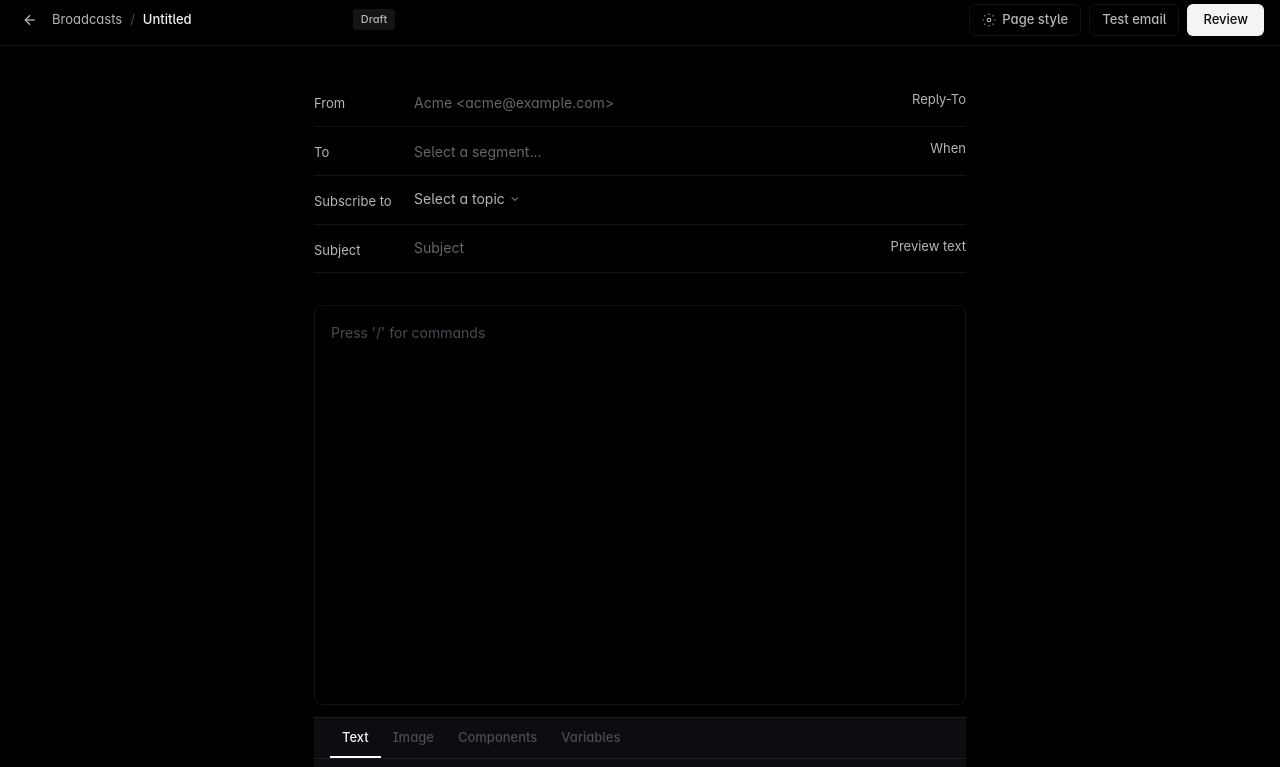
Test: BroadcastEditor — Block Editor › variables tab shows contact properties and system variables
The width and height of the screenshot is (1280, 767).
Note: Click Variables toolbar tab
Click the button "Variables" at (591, 738), box [549,718,632,758]
(page scrolled)
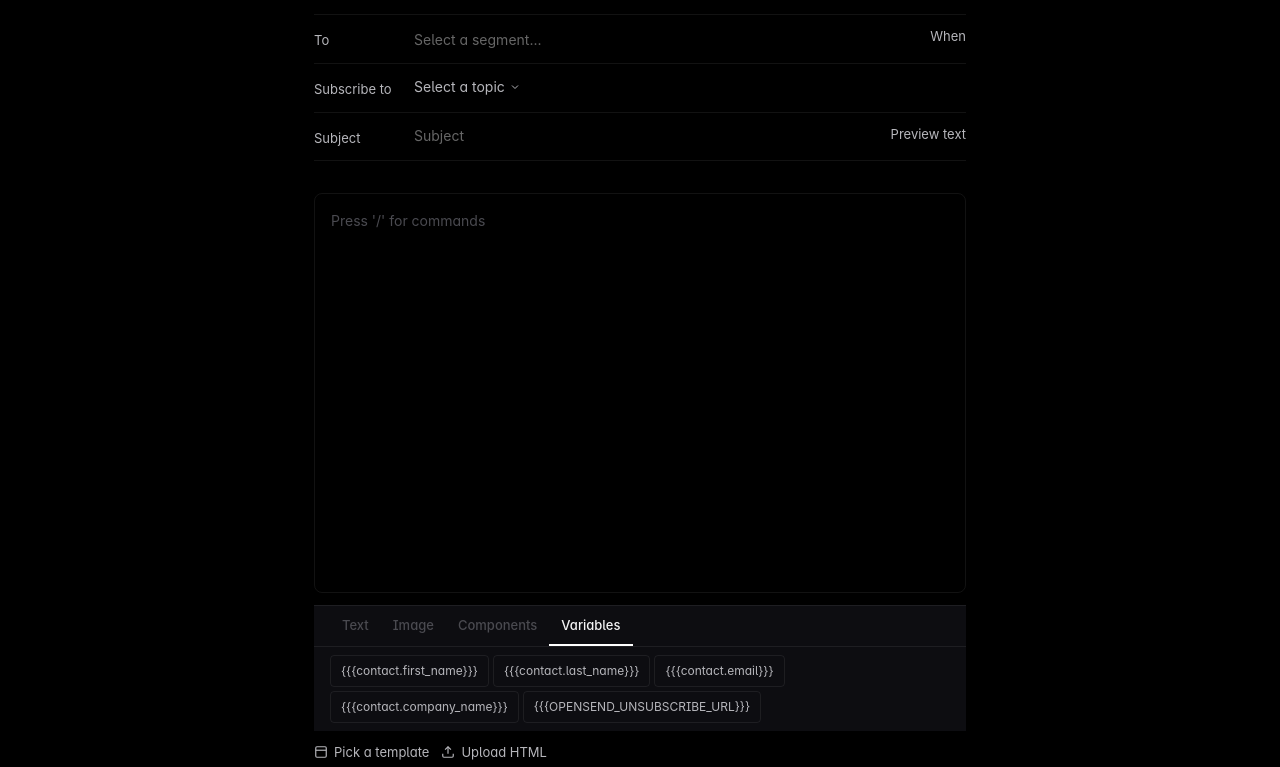
Result: the button "{{{contact.first_name}}}" is shown at [330,654,489,686]
Result: the button "{{{contact.last_name}}}" is shown at [493,654,650,686]
Result: the button "{{{contact.email}}}" is shown at [654,654,785,686]
